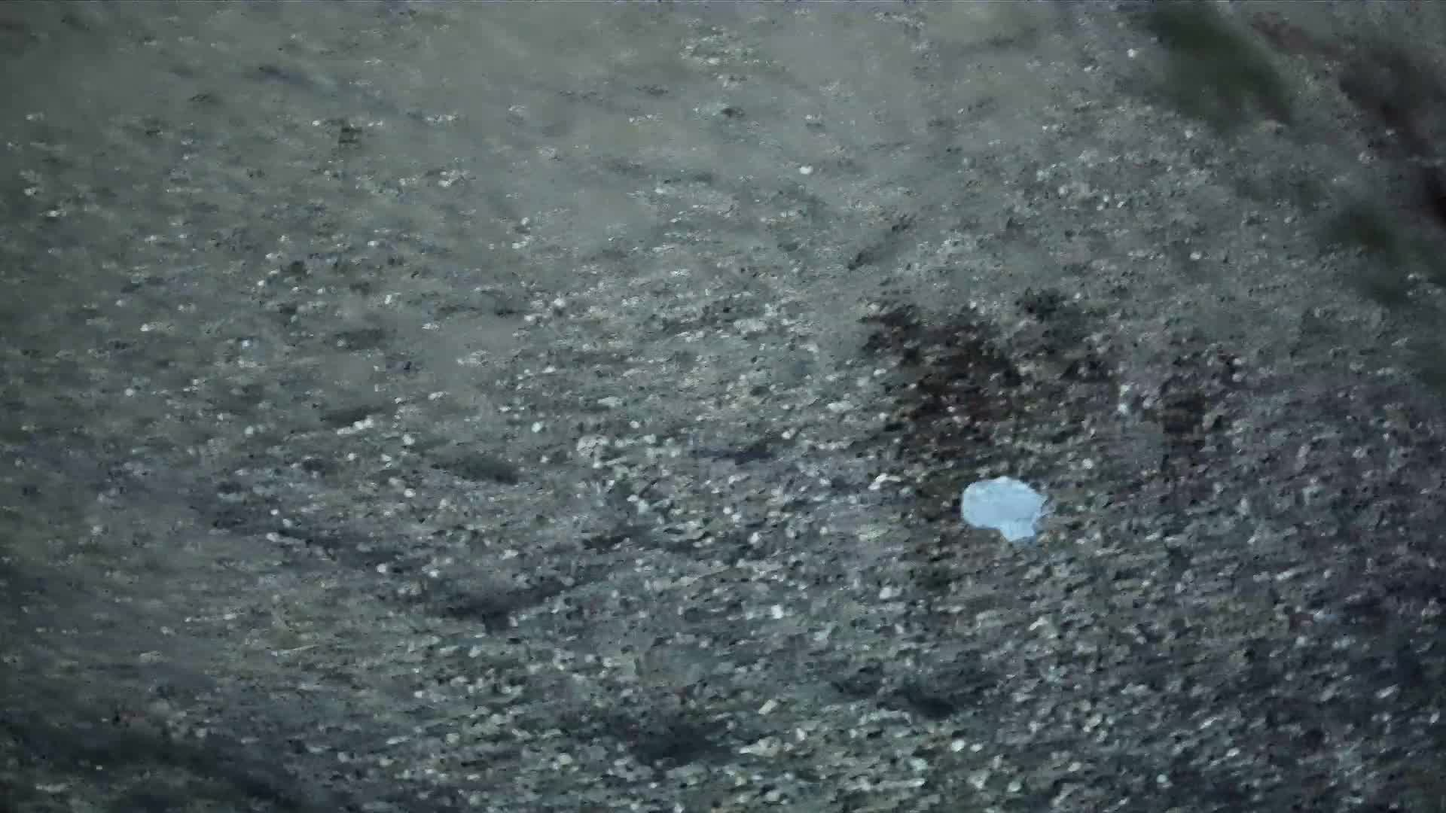Target: (956, 470, 1050, 544)
